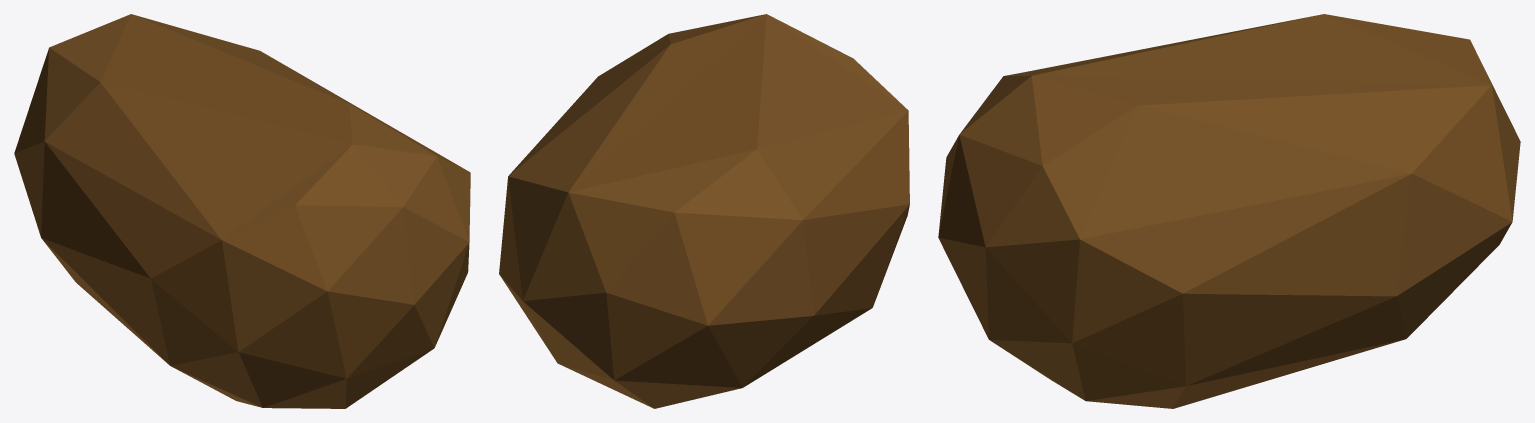
The model's file is Patates.fbx.
The picture shows the model from 3 angles, left to right: view 1: azimuth 30°, elevation 25°; view 2: azimuth 150°, elevation 25°; view 3: azimuth 270°, elevation 25°; orthographic projection. The views are drawn at different scales.
Visible parts, largest first — view 1: Icosphere.001; view 2: Icosphere.001; view 3: Icosphere.001.
Boxes of the visible parts, bbox=[...] form: Icosphere.001: bbox=[14, 14, 470, 408]; Icosphere.001: bbox=[499, 14, 909, 408]; Icosphere.001: bbox=[938, 14, 1520, 408].
Size of the model in its own units: 24.69 by 20.21 by 33.93.
